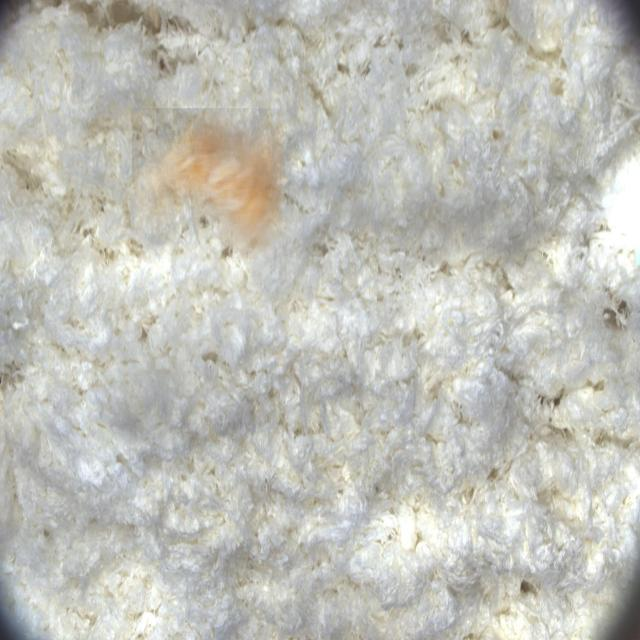dust: (132, 108, 284, 259)
